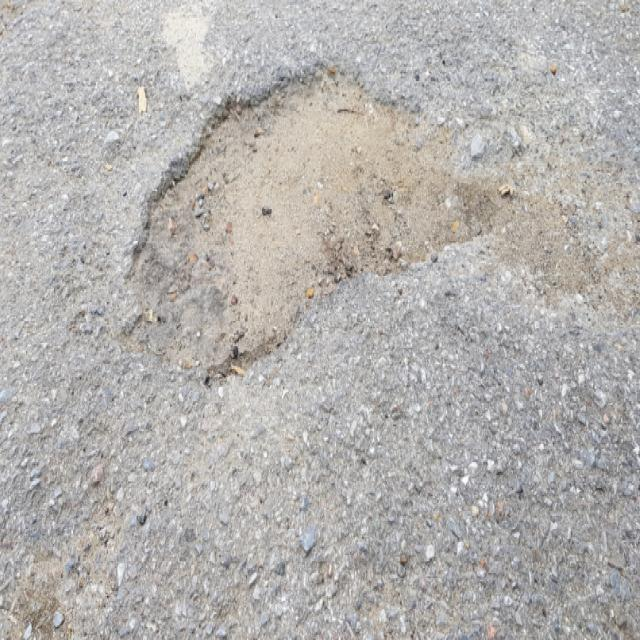pothole: (120, 51, 497, 397)
